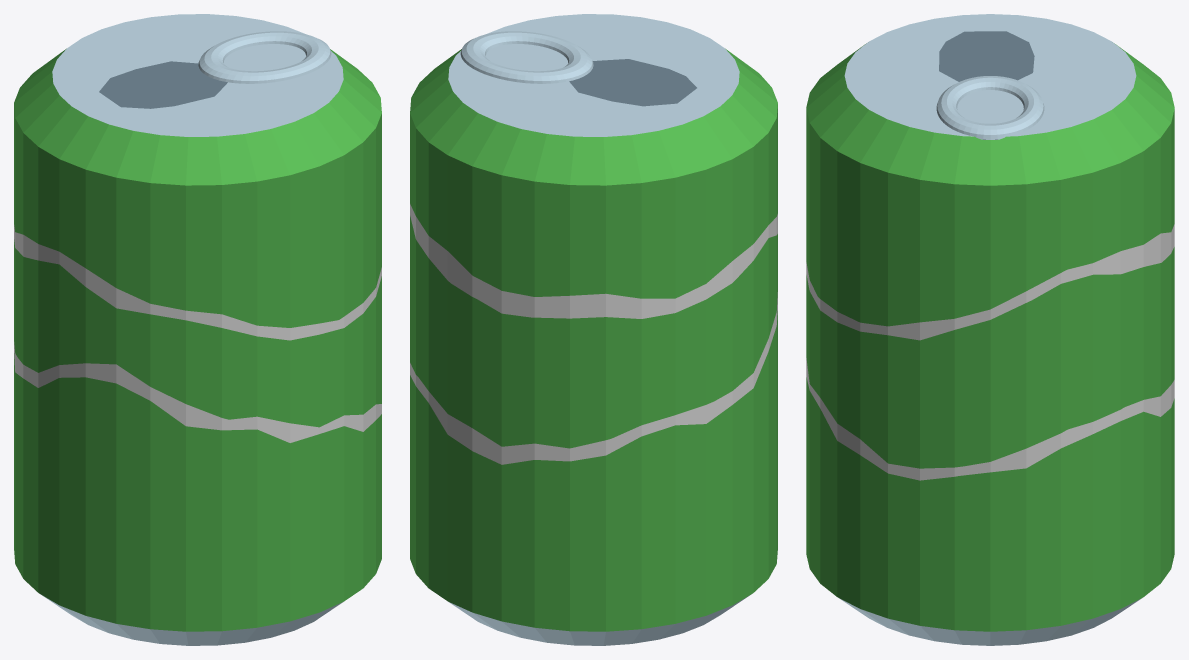
Rendered from soda.fbx.
3 views of the same model, side by side, from view 1: azimuth 30°, elevation 25°; view 2: azimuth 150°, elevation 25°; view 3: azimuth 270°, elevation 25° (orthographic).
Parts seen in each view (by area): view 1: Cylinder; view 2: Cylinder; view 3: Cylinder.
Boxes of the visible parts, box(x1,y1,x2,y2) form: Cylinder: box(14, 14, 381, 645); Cylinder: box(410, 14, 777, 645); Cylinder: box(806, 14, 1174, 645).
Size of the model in its own units: 200 by 308 by 200.
